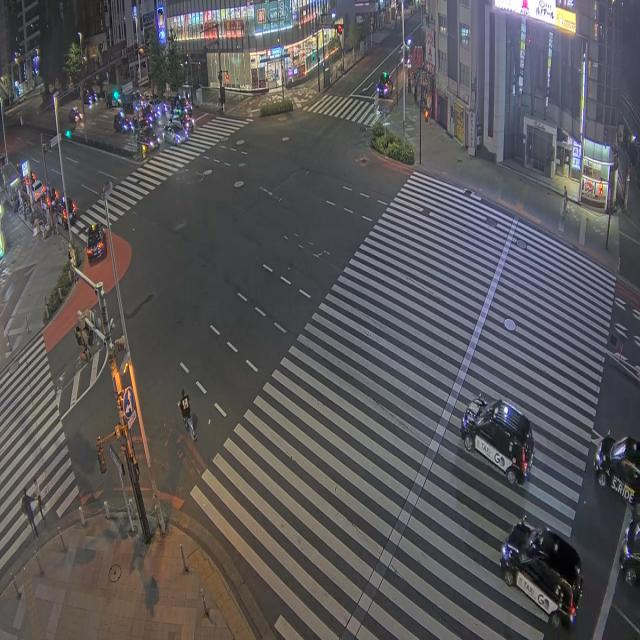car: (501, 518, 582, 627), (461, 394, 534, 484), (594, 435, 639, 504), (620, 518, 639, 585), (86, 224, 106, 262), (137, 126, 161, 150), (163, 123, 187, 144), (114, 111, 133, 133), (171, 113, 194, 131), (377, 72, 393, 97), (171, 97, 192, 115), (54, 203, 68, 228), (149, 99, 168, 117), (32, 180, 46, 202), (83, 89, 97, 105), (69, 107, 81, 122)
